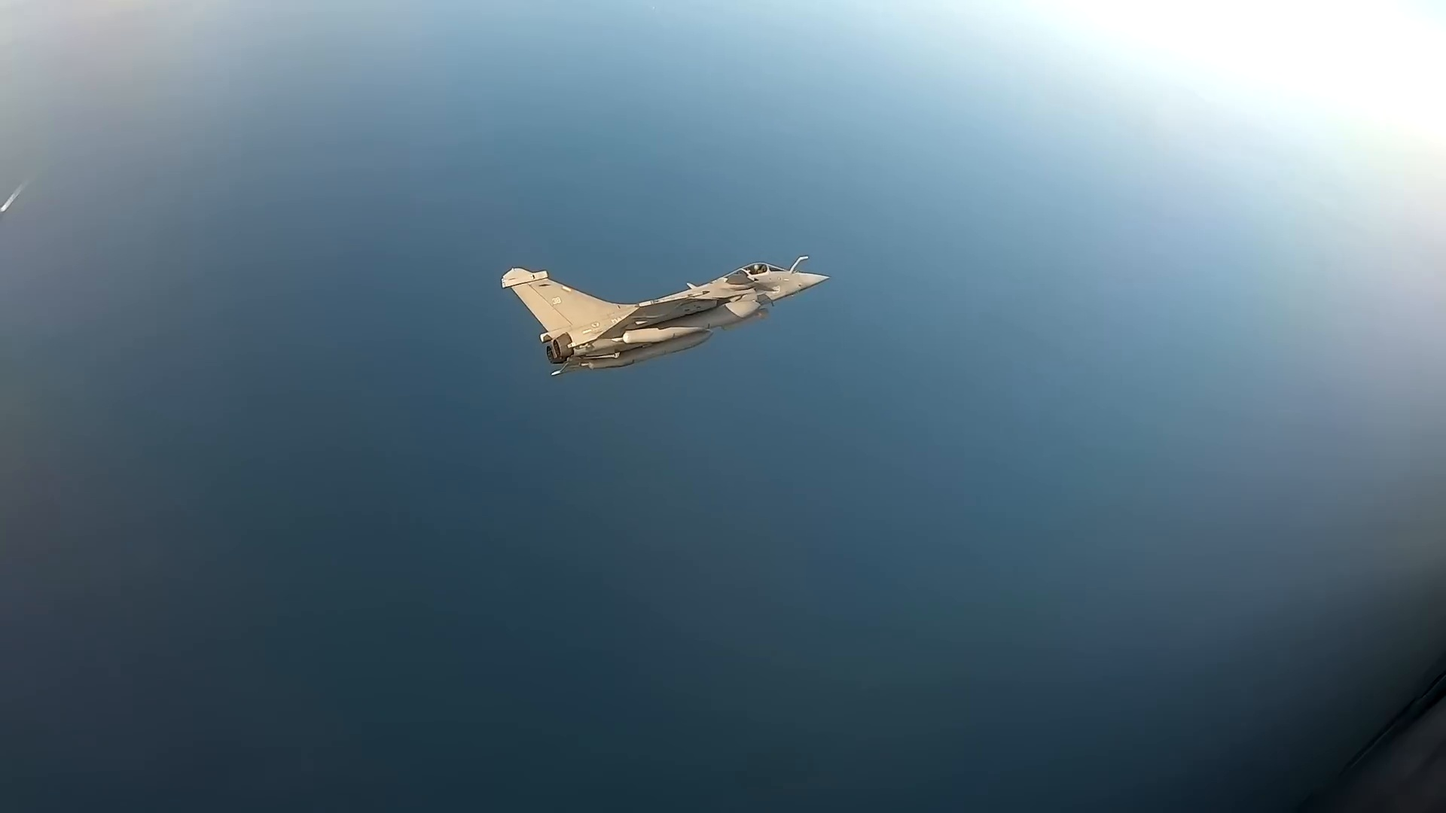Rafale: (500, 250, 828, 379)
